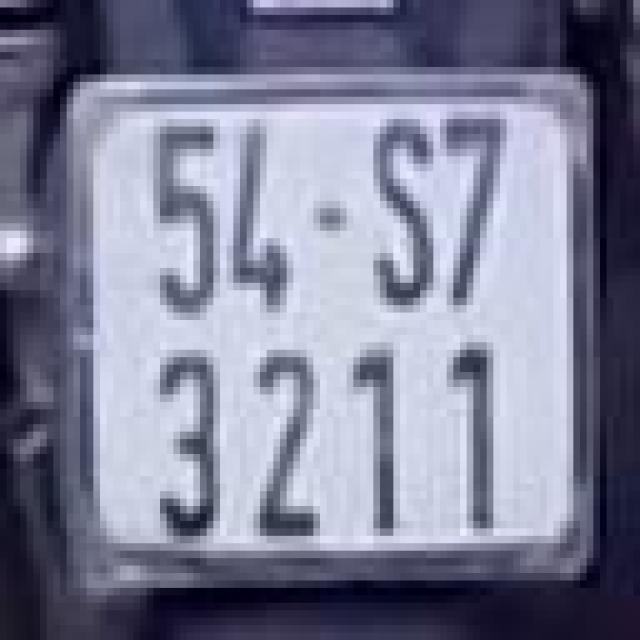1: (337, 331, 410, 540), (440, 331, 507, 532)
2: (247, 342, 333, 544)
3: (143, 342, 230, 544)
4: (223, 104, 290, 320)
5: (144, 112, 224, 335)
7: (440, 100, 513, 316)
S: (367, 104, 440, 313)
